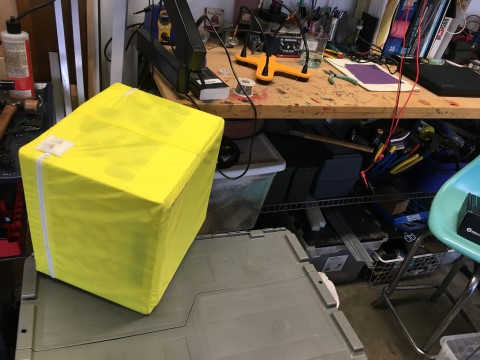cube: (20, 81, 226, 316)
